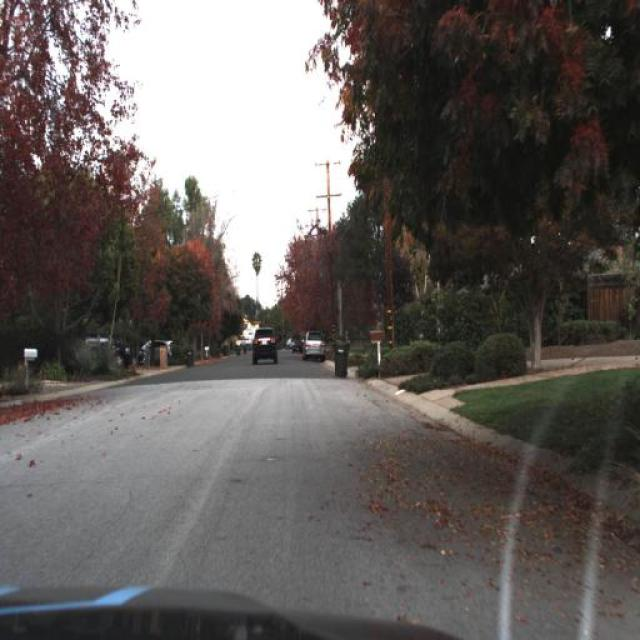car: (248, 323, 280, 371), (300, 329, 326, 365)
